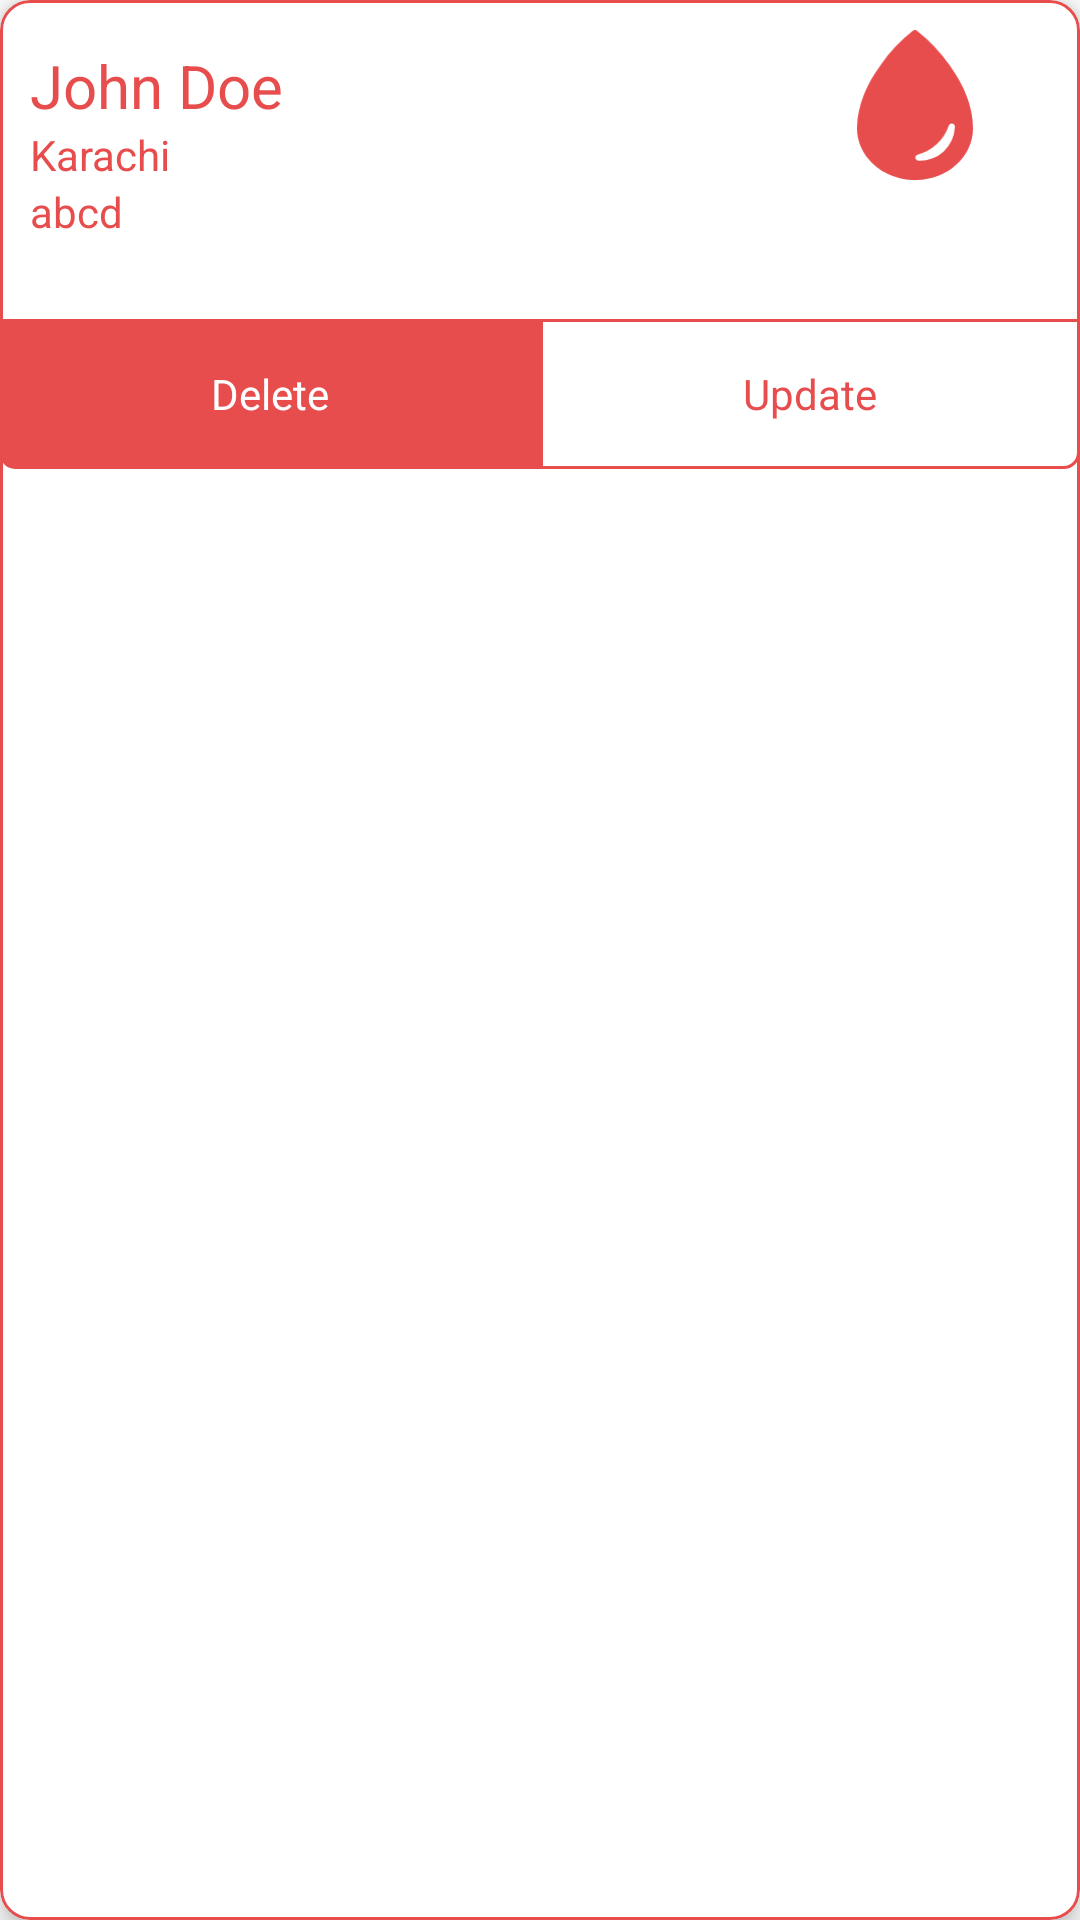

Screen size 1080×1920. Icon name, then its box in pixels as (x1, y1, x2, y2):
blood: (857, 30, 973, 180)
